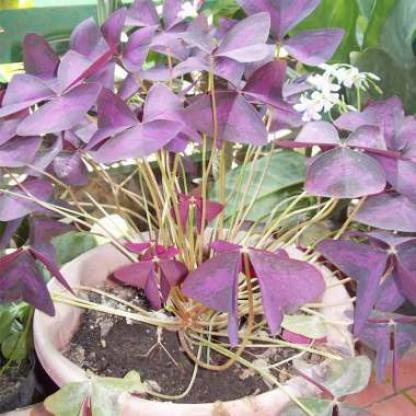Kupu-Kupu: (210, 235, 293, 314), (103, 82, 176, 167), (207, 55, 271, 148), (309, 122, 388, 187), (31, 56, 95, 136), (240, 1, 310, 68), (360, 235, 416, 303)
